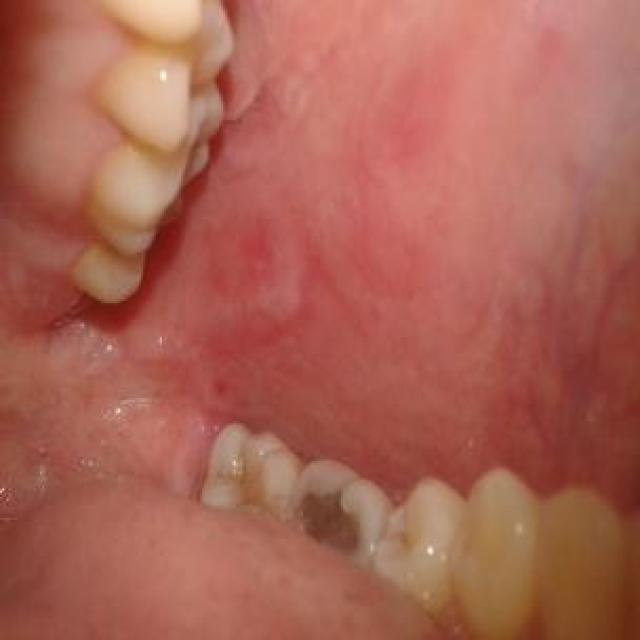processing_area: (0, 0, 638, 638)
